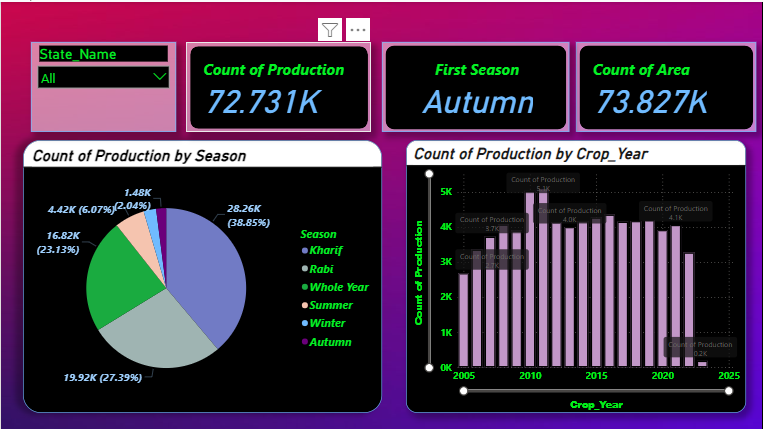

This screenshot's page, from the dashboard's own definition file:
{"tool":"powerbi","page":{"name":"Page 1","canvas":[1280,720],"ordinal":0},"visuals":[{"type":"lineStackedColumnComboChart","fields":{"Y":["CountNonNull(Power BI enabled Crop Production Analysis (Data Analytics with Power BI).Production)"],"Category":["Power BI enabled Crop Production Analysis (Data Analytics with Power BI).Crop_Year"]},"box":[681.2,232.1,571.9,459.2],"z":0},{"type":"pieChart","fields":{"Category":["Power BI enabled Crop Production Analysis (Data Analytics with Power BI).Season"],"Y":["CountNonNull(Power BI enabled Crop Production Analysis (Data Analytics with Power BI).Production)"]},"box":[37,232.1,603.8,459.2],"z":1000},{"type":"cardVisual","fields":{"Data":["CountNonNull(Power BI enabled Crop Production Analysis (Data Analytics with Power BI).Area)"]},"box":[967.1,67.3,302.8,151.4],"z":2000},{"type":"cardVisual","fields":{"Data":["CountNonNull(Power BI enabled Crop Production Analysis (Data Analytics with Power BI).Production)"]},"box":[311.2,67.3,311.2,151.4],"z":3000},{"type":"cardVisual","fields":{"Data":["Min(Power BI enabled Crop Production Analysis (Data Analytics with Power BI).Season)"]},"box":[640.8,67.3,314.5,151.4],"z":4000},{"type":"slicer","fields":{"Values":["Power BI enabled Crop Production Analysis (Data Analytics with Power BI).State_Name"]},"box":[50.5,67.3,243.9,151.4],"z":5000}]}

Visuals, with their boxes in screenshot pixels (x1, y1, x2, y2), scaled from the page's 1280x720 canvas onto the 763x429 screenshot:
lineStackedColumnComboChart - CountNonNull(Power BI enabled Crop Production Analysis (Data Analytics with Power BI).Production) x Power BI enabled Crop Production Analysis (Data Analytics with Power BI).Crop_Year: detection(406, 138, 747, 412)
pieChart - Power BI enabled Crop Production Analysis (Data Analytics with Power BI).Season x CountNonNull(Power BI enabled Crop Production Analysis (Data Analytics with Power BI).Production): detection(22, 138, 382, 412)
cardVisual - CountNonNull(Power BI enabled Crop Production Analysis (Data Analytics with Power BI).Area): detection(576, 40, 757, 130)
cardVisual - CountNonNull(Power BI enabled Crop Production Analysis (Data Analytics with Power BI).Production): detection(186, 40, 371, 130)
cardVisual - Min(Power BI enabled Crop Production Analysis (Data Analytics with Power BI).Season): detection(382, 40, 569, 130)
slicer - Power BI enabled Crop Production Analysis (Data Analytics with Power BI).State_Name: detection(30, 40, 175, 130)
